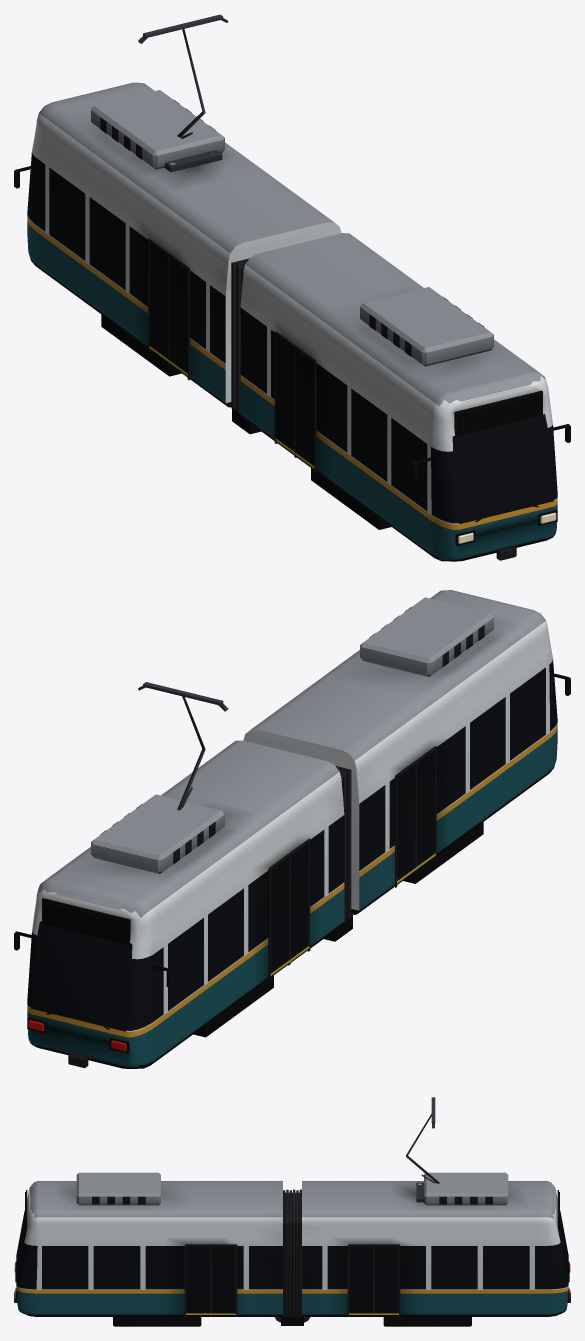
The model's file is prop.town.tram.glb.
3 renders of one model, top to bottom at view 1: azimuth 30°, elevation 25°; view 2: azimuth 150°, elevation 25°; view 3: azimuth 270°, elevation 25°, orthographic. The views are drawn at different scales.
Parts seen in each view (by area): view 1: v0_LOD0; view 2: v0_LOD0; view 3: v0_LOD0.
Part boxes in pixels (bbox=[...]): v0_LOD0: bbox=[14, 14, 570, 561]; v0_LOD0: bbox=[14, 590, 570, 1068]; v0_LOD0: bbox=[14, 1097, 570, 1326].
Size of what is drawn, in the model's own units: 3.04 by 5.88 by 14.52.
